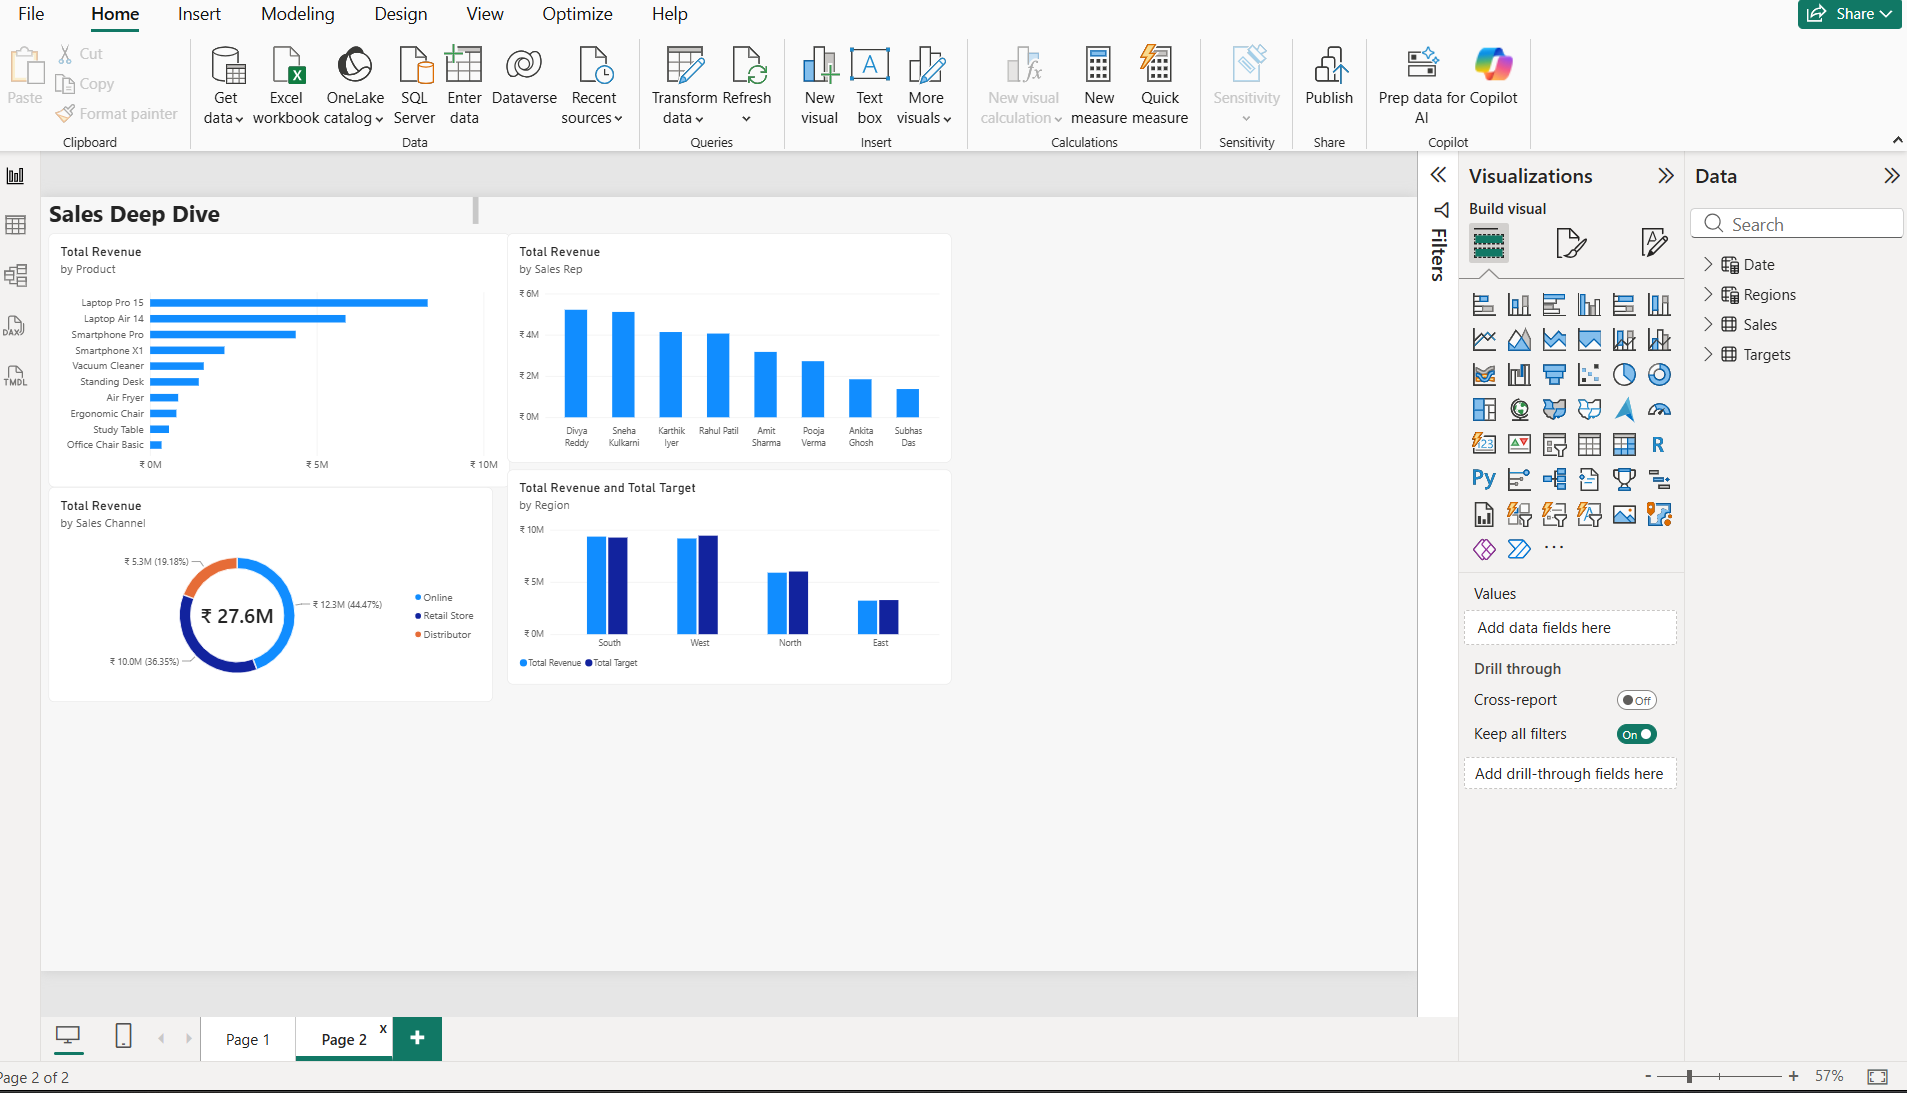

What the dashboard file says about the page in this screenshot:
{"tool":"powerbi","page":{"name":"Page 2","canvas":[1920,1080],"ordinal":1},"visuals":[{"type":"textbox","box":[10,0,600,40],"z":0},{"type":"clusteredBarChart","fields":{"Category":["Sales.Product"],"Y":["Sales.Total Revenue"]},"box":[10,50,644.3,354.3],"z":1},{"type":"clusteredColumnChart","fields":{"Category":["Sales.Sales Rep"],"Y":["Sales.Total Revenue"]},"box":[650,50,620,320],"z":2},{"type":"donutChart","fields":{"Category":["Sales.Sales Channel"],"Y":["Sales.Total Revenue"]},"box":[10,404.3,620,300],"z":3},{"type":"clusteredColumnChart","fields":{"Category":["Regions.Region"],"Y":["Sales.Total Revenue","Sales.Total Target"]},"box":[650,380,620,300],"z":4}]}

Visuals, with their boxes on the page's 1920x1080 design canvas (x1, y1, x2, y2). These are canvas units, not pixel positions in the 1907x1093 screenshot, which may show the page scaled, cropped or inside an application window:
textbox: 10/0/610/40
clusteredBarChart - Sales.Product x Sales.Total Revenue: 10/50/654/404
clusteredColumnChart - Sales.Sales Rep x Sales.Total Revenue: 650/50/1270/370
donutChart - Sales.Sales Channel x Sales.Total Revenue: 10/404/630/704
clusteredColumnChart - Regions.Region x Sales.Total Revenue: 650/380/1270/680
